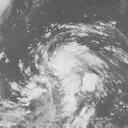cyclone: (33, 31, 105, 100)
